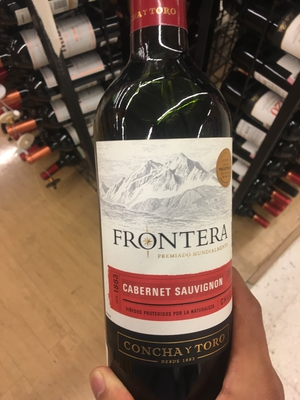frontera cabernet sauvignon: (83, 18, 251, 371)
